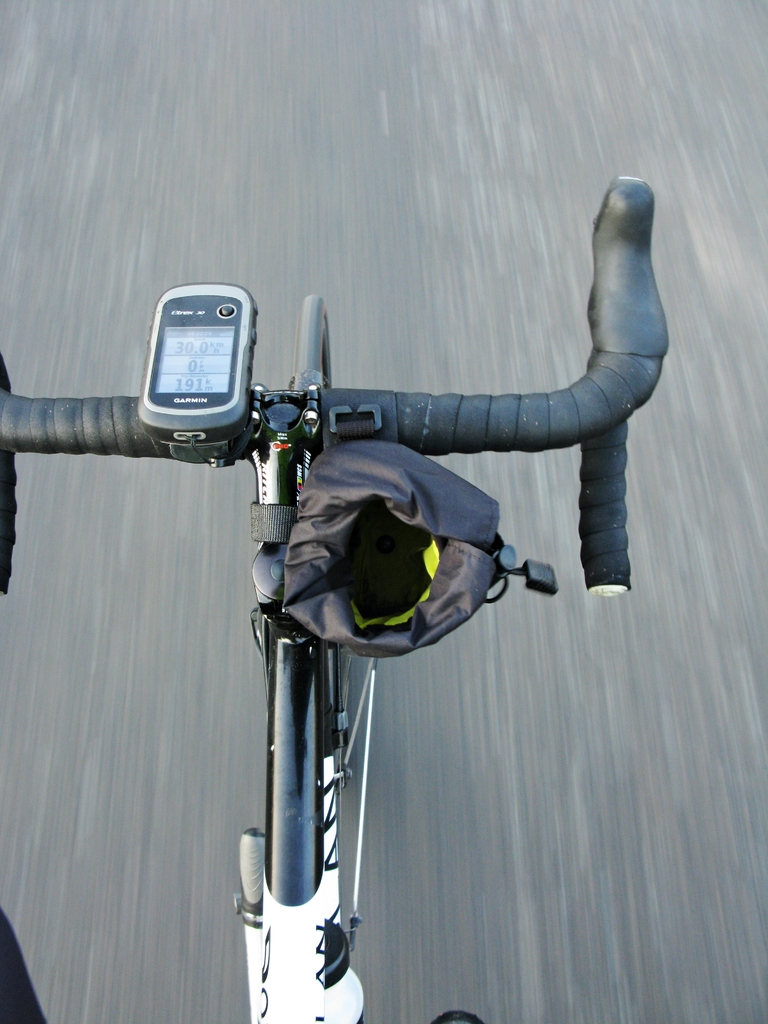mobile phone: (142, 278, 259, 433)
